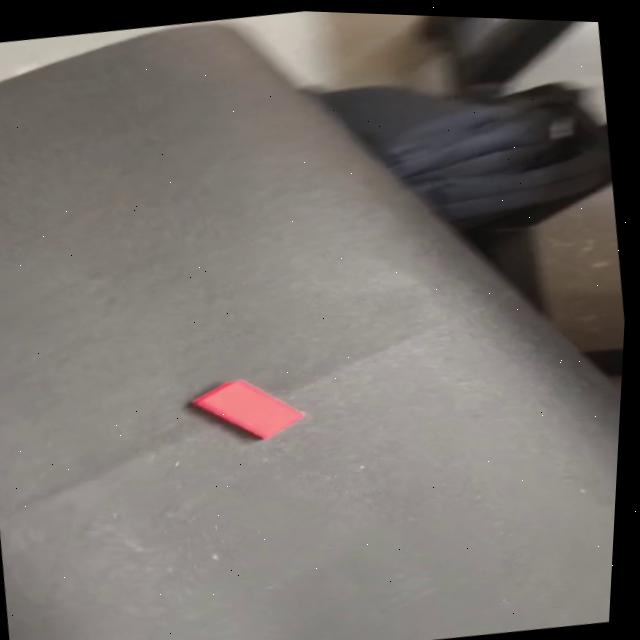red block: (183, 367, 309, 451)
